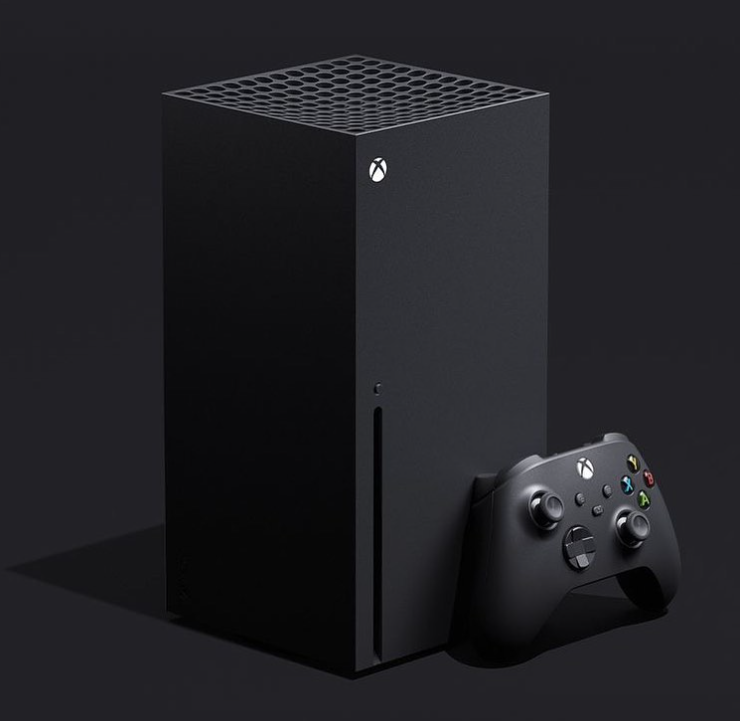gamingconsole: (447, 432, 683, 654)
